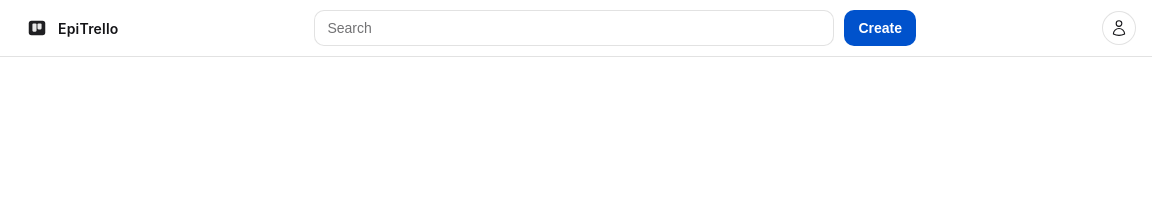
Test: components/TopBar › Theme button toggles theme submenu
Click the button named "profile" at (1119, 28), box 1102,11 -> 1136,45
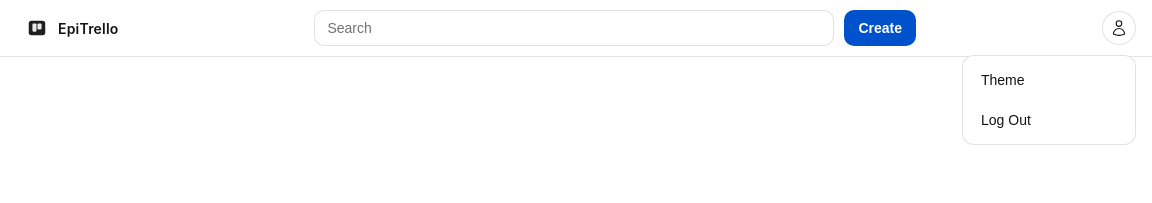
Check: the button "match system" is not shown
Click the button "Theme" at (1049, 80), box 969,62 -> 1129,98
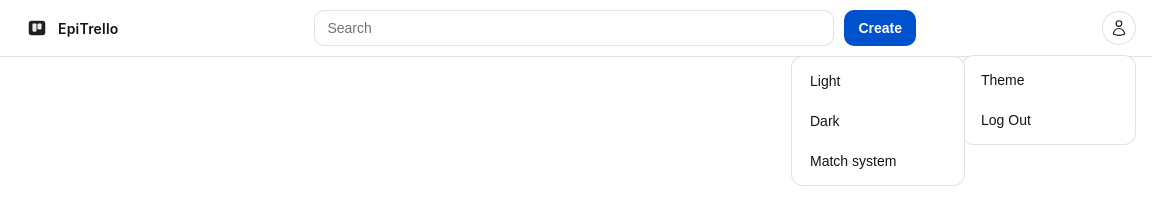
Check: the button "Light" is shown, box 798,63 -> 958,99
Check: the button "Dark" is shown, box 798,103 -> 958,139
Check: the button "Match system" is shown, box 798,143 -> 958,179
Click the button "Theme" at (1049, 80), box 969,62 -> 1129,98
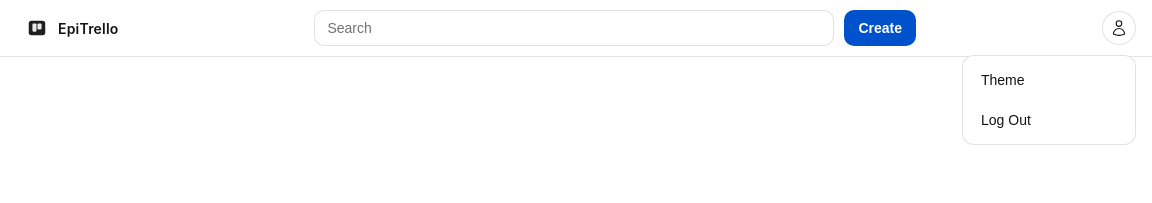
Check: the button "Match system" is gone
